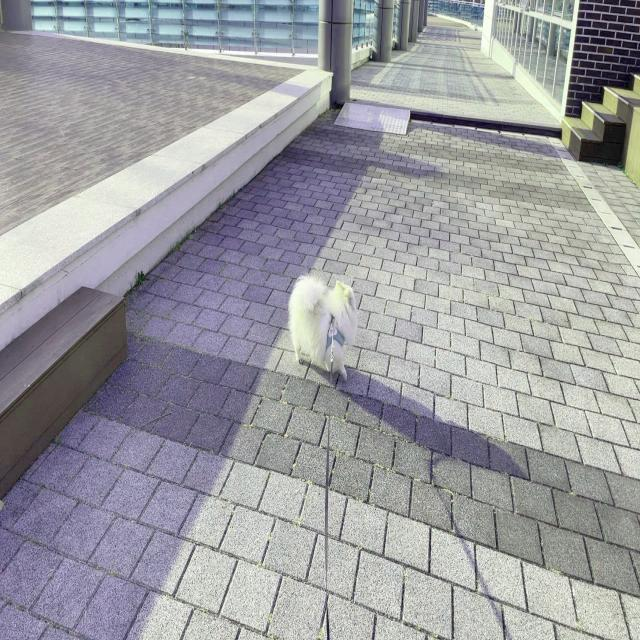Dog: (287, 274, 358, 382)
